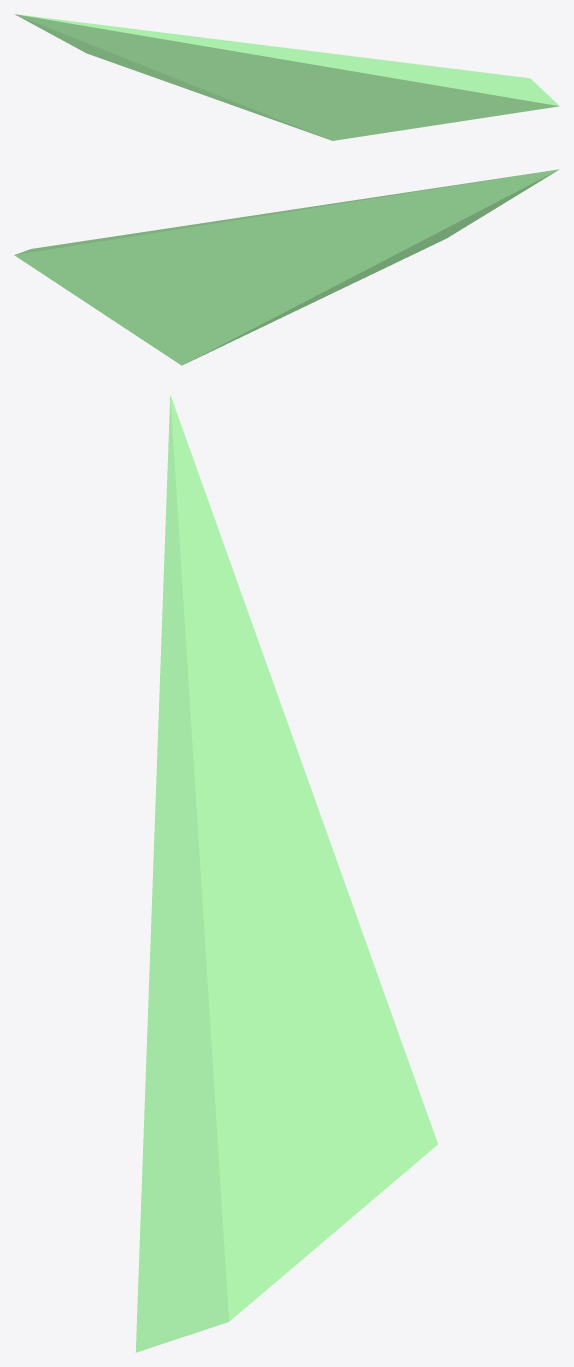
The model's file is linkhou_LR4_R560_link2_respondable_coll_3.dae.
3 views of the same model, one above another, from view 1: azimuth 30°, elevation 25°; view 2: azimuth 150°, elevation 25°; view 3: azimuth 270°, elevation 25° (orthographic). The views are drawn at different scales.
Visible parts, largest first — view 1: Node_00000209DB3A9E60; view 2: Node_00000209DB3A9E60; view 3: Node_00000209DB3A9E60.
Part boxes in pixels (x1,y1,x2,y2): Node_00000209DB3A9E60: (14, 14, 559, 140); Node_00000209DB3A9E60: (14, 169, 559, 365); Node_00000209DB3A9E60: (135, 395, 437, 1352).
Bounding box in the file's own units: 0.0815 × 0.0324 × 0.0199.
